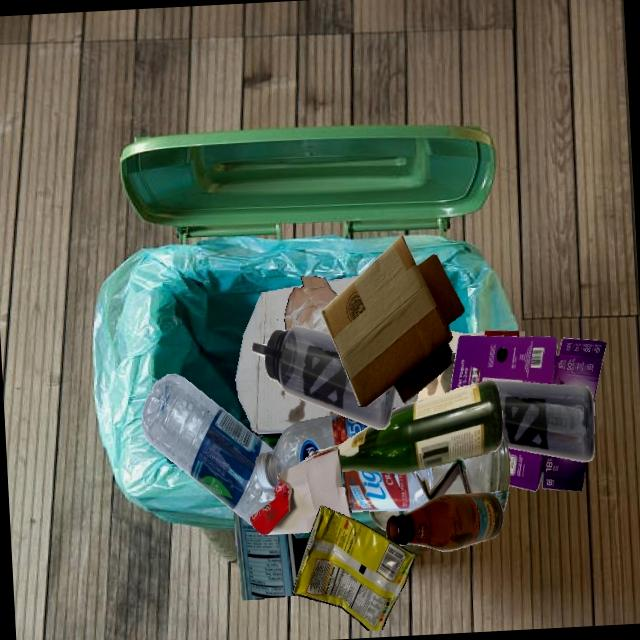cardboard: (322, 236, 464, 407), (235, 285, 341, 433), (277, 290, 406, 402), (450, 336, 606, 403), (508, 448, 586, 492), (416, 458, 474, 501)
glass: (305, 380, 503, 474), (386, 493, 504, 551), (233, 511, 309, 600), (466, 437, 510, 494), (369, 481, 445, 511)
paper: (251, 449, 352, 535), (417, 330, 524, 401), (284, 276, 337, 334)
plastic: (142, 374, 275, 525), (251, 325, 396, 429), (256, 411, 405, 488), (490, 380, 595, 462), (341, 470, 413, 512)
trash: (293, 505, 416, 631)
